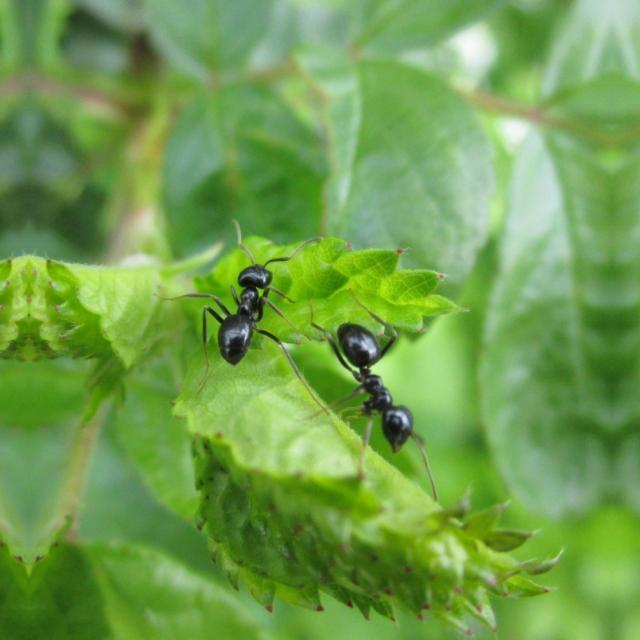Lasius: (337, 308, 429, 464), (188, 244, 292, 374)
